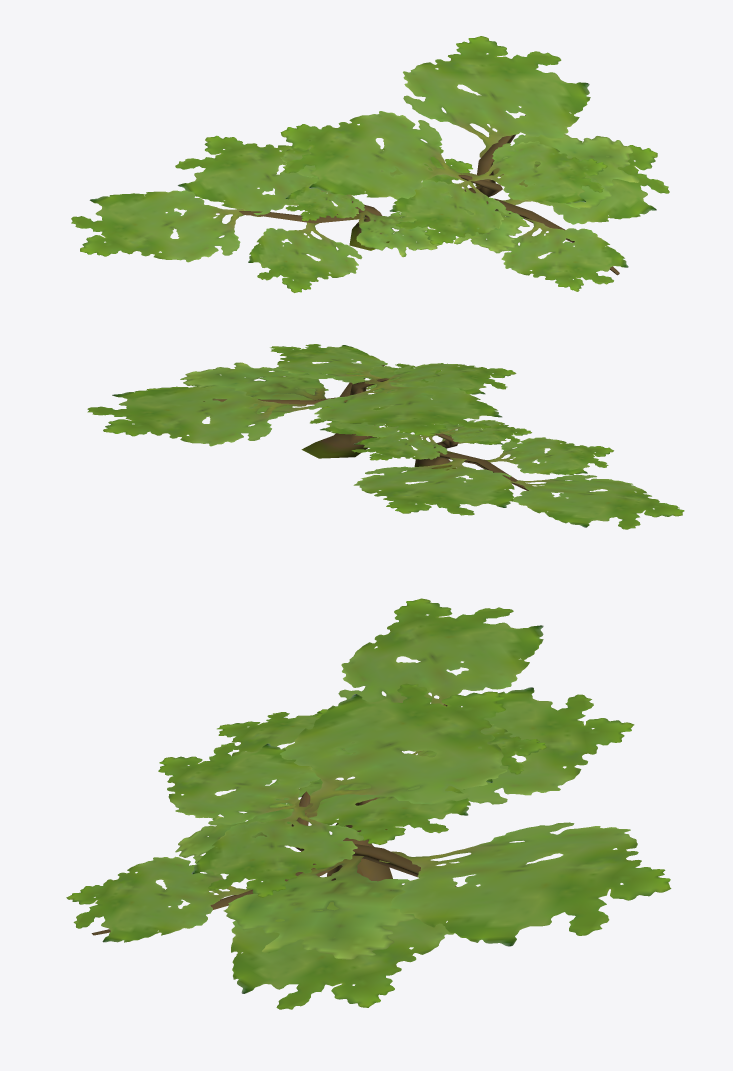
File: liemo_plant_07 (20).fbx
The picture shows the model from 3 angles, top to bottom: view 1: azimuth 30°, elevation 25°; view 2: azimuth 150°, elevation 25°; view 3: azimuth 270°, elevation 25°; orthographic projection. The views are drawn at different scales.
Parts seen in each view (by area): view 1: liemo_plant_07 (20); view 2: liemo_plant_07 (20); view 3: liemo_plant_07 (20).
Boxes of the visible parts, box(x1,y1,x2,y2) form: liemo_plant_07 (20): box(71, 36, 669, 292); liemo_plant_07 (20): box(87, 344, 684, 529); liemo_plant_07 (20): box(66, 598, 671, 1009).
Size of the model in its own units: 9.24 by 1.3 by 6.49.
